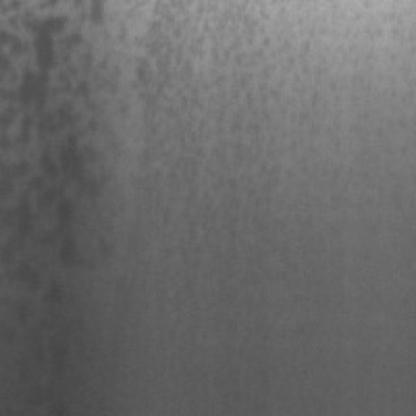pitted_surface: (129, 0, 399, 279), (0, 0, 114, 409)
